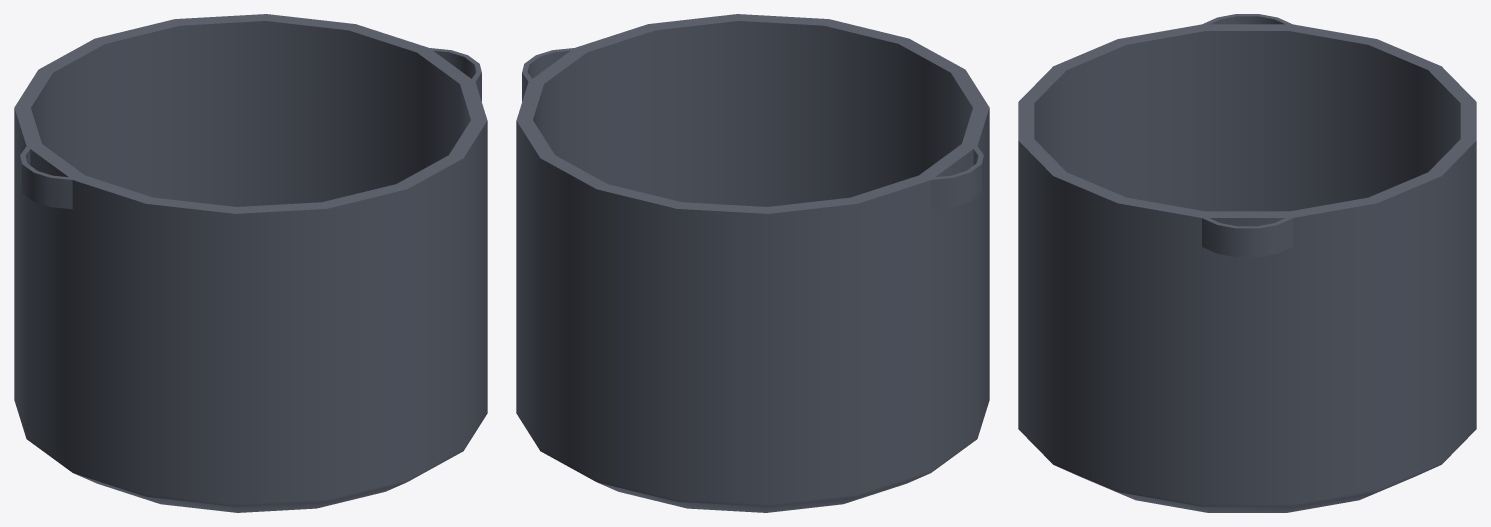
Rendered from Pot.fbx.
The picture shows the model from 3 angles, left to right: view 1: azimuth 30°, elevation 25°; view 2: azimuth 150°, elevation 25°; view 3: azimuth 270°, elevation 25°; orthographic projection.
Visible parts, largest first — view 1: Pot; view 2: Pot; view 3: Pot.
Part boxes in pixels (x1,y1,x2,y2): Pot: (14,14,487,512); Pot: (516,14,989,512); Pot: (1018,14,1476,512).
Bounding box in the file's own units: 95.58 × 65.81 × 86.31.
